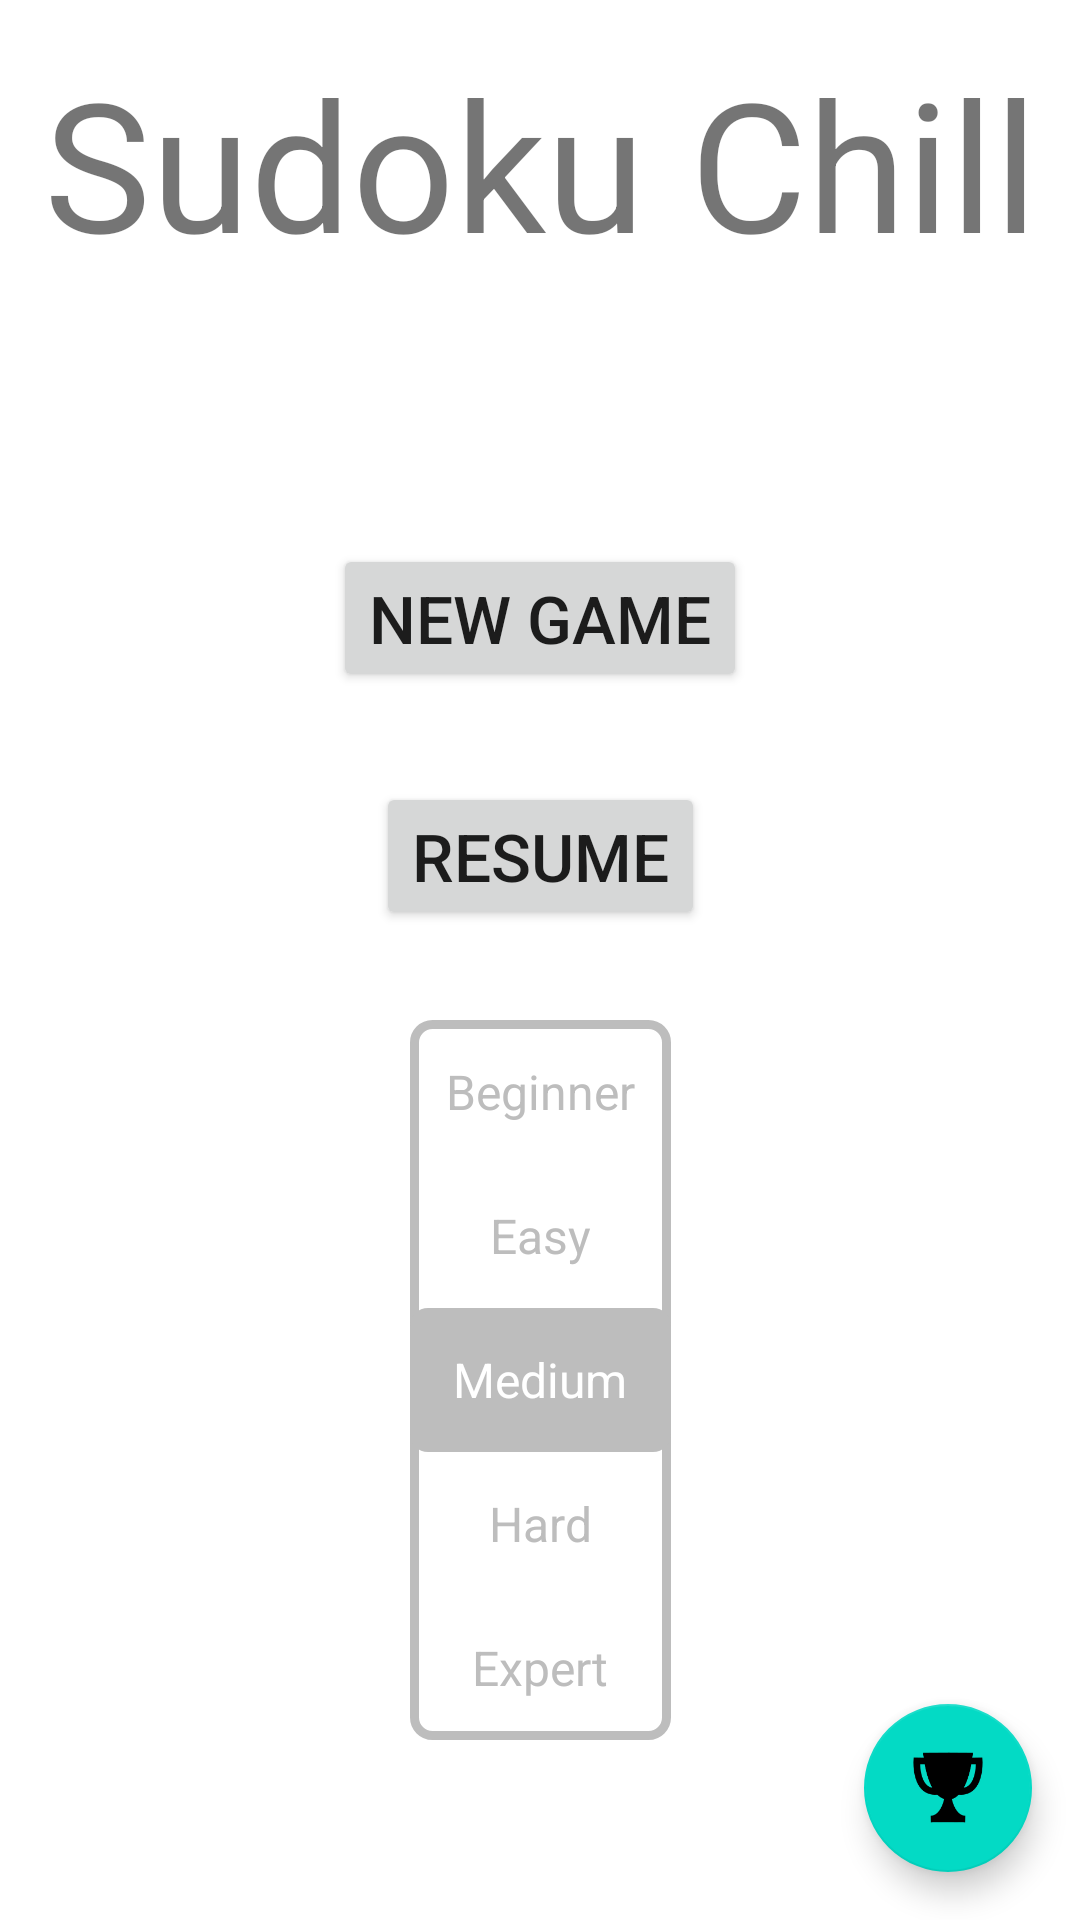

Screen size 1080 x 1920. Icon name, then its box in pixels as bbox(x1, y1, x2, y2):
Achievements: bbox(864, 1704, 1032, 1872)
